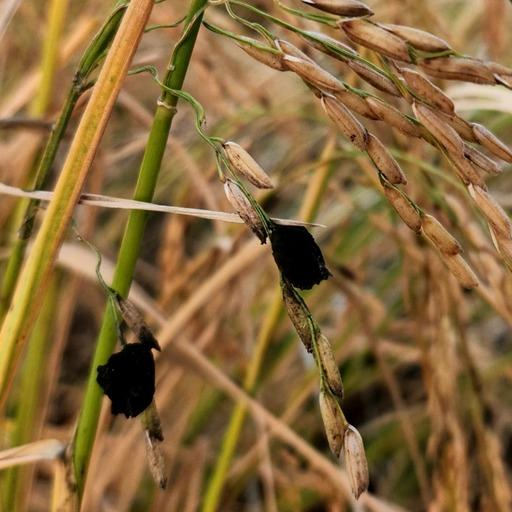Leaf_Scald: (82, 337, 179, 419), (254, 216, 342, 290)
